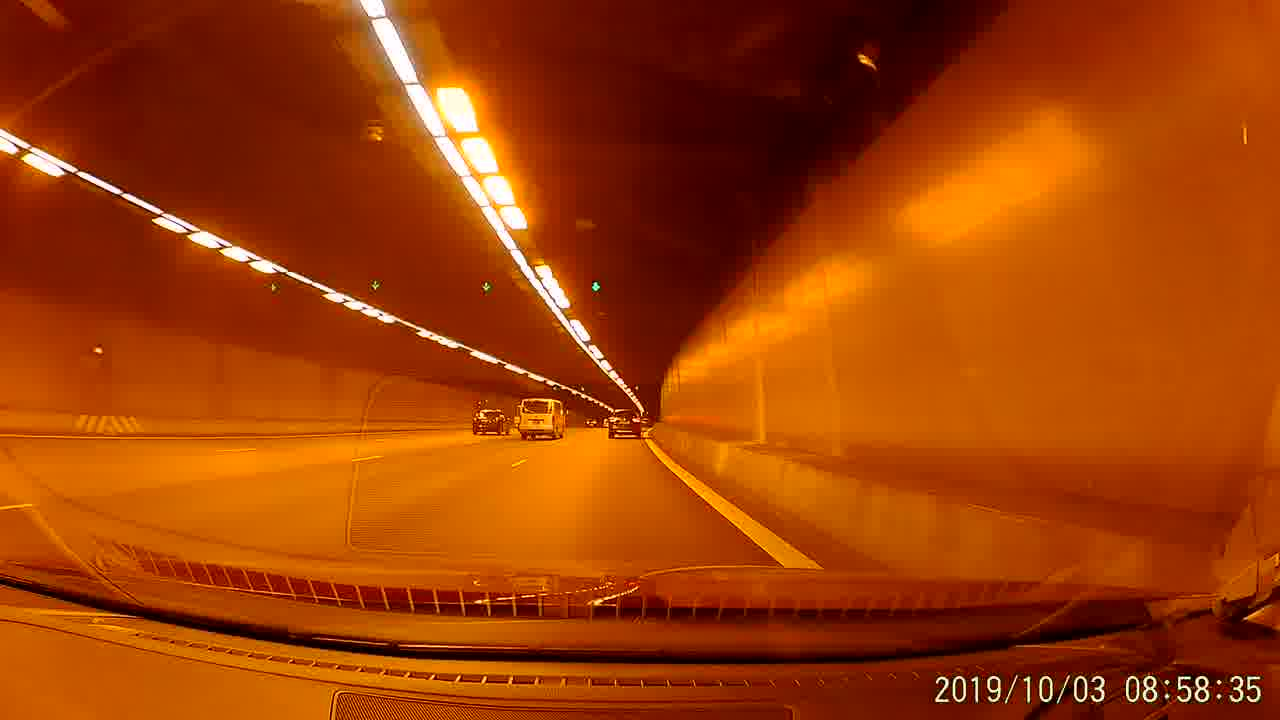car: (605, 406, 645, 440), (470, 406, 513, 437)
